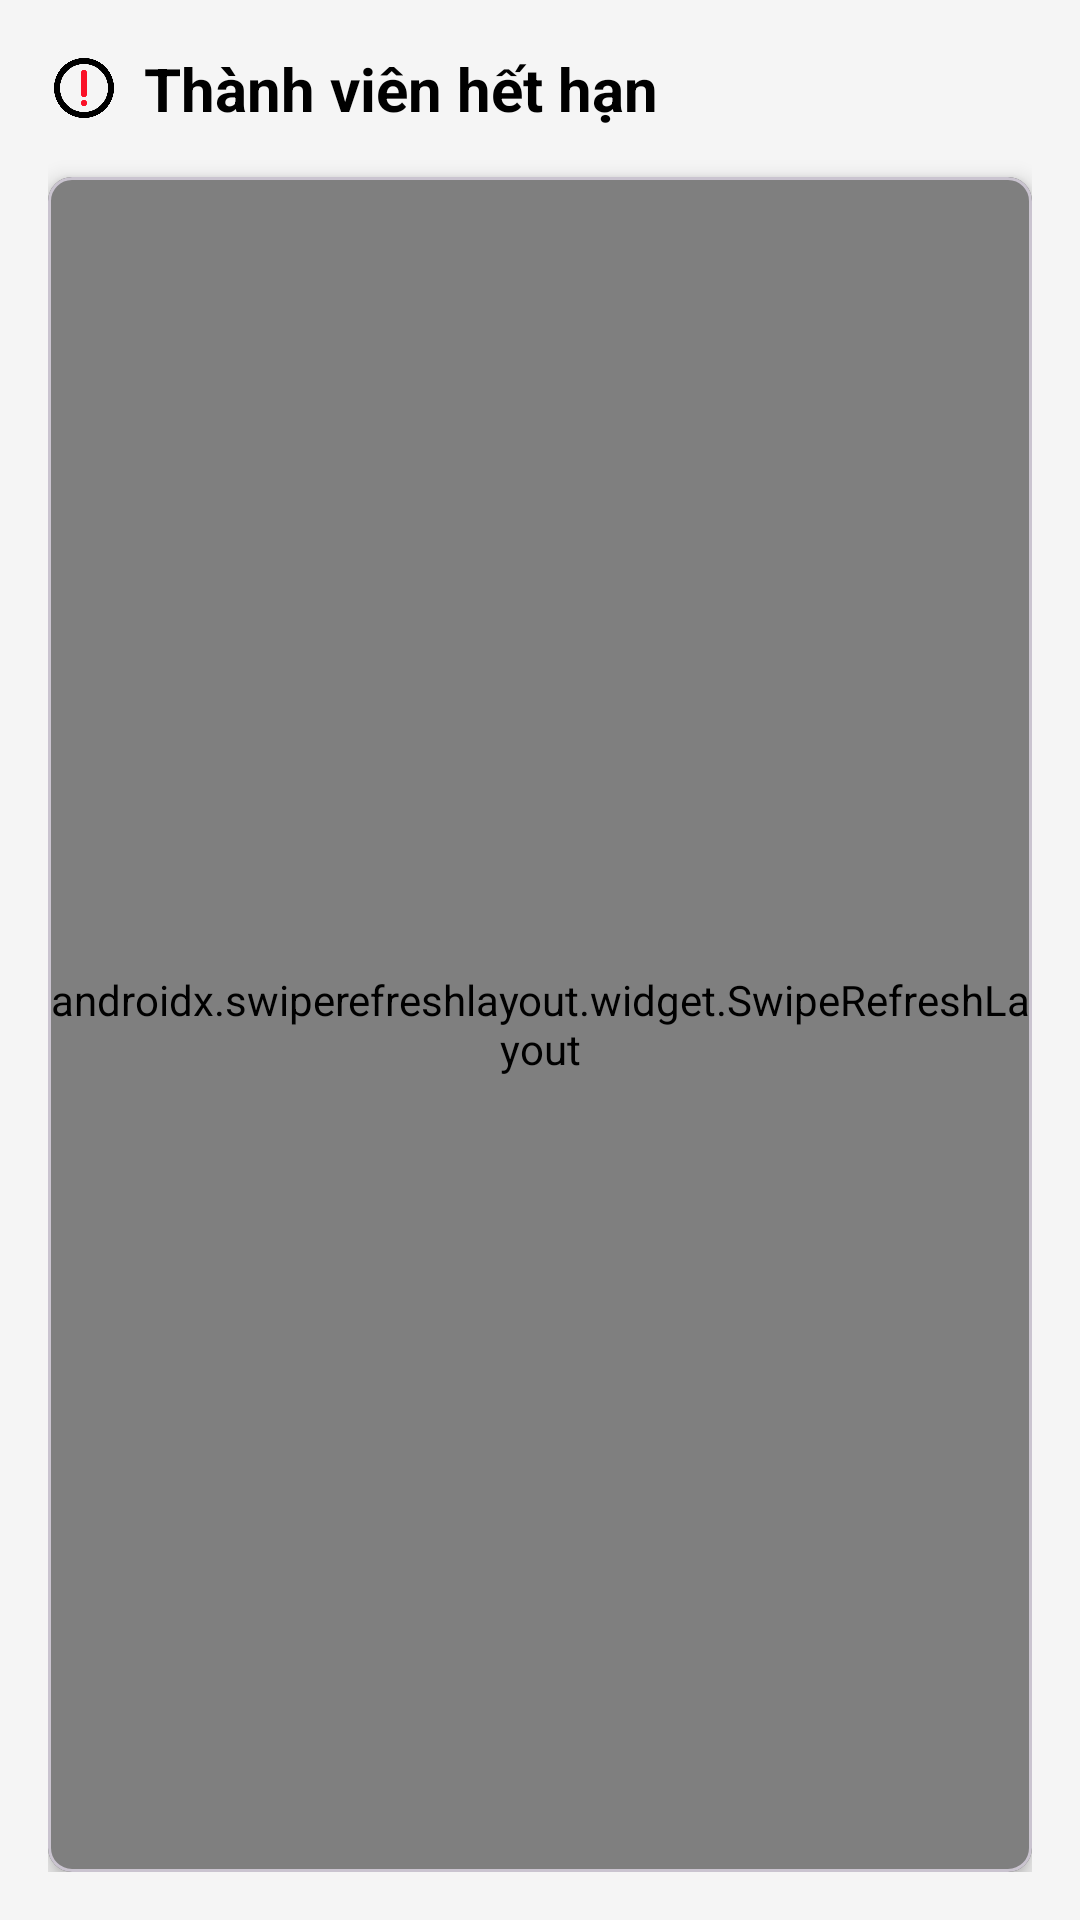

Icon bounding boxes for this 1080 × 1920 phone screenshot, format rect(x1, y1, x2, y2):
Warning icon: rect(54, 58, 114, 118)
